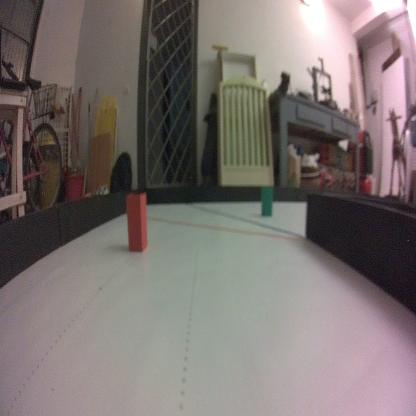green: (260, 185, 274, 219)
red: (124, 193, 148, 252)
